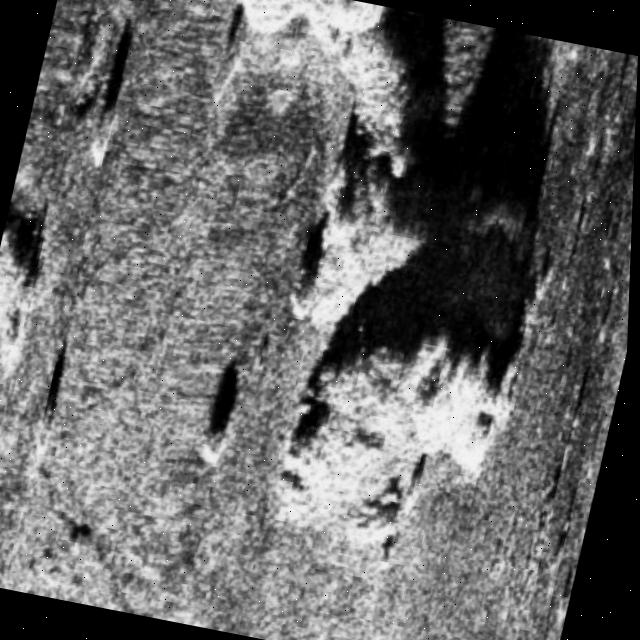bedrock group: (114, 0, 594, 571)
